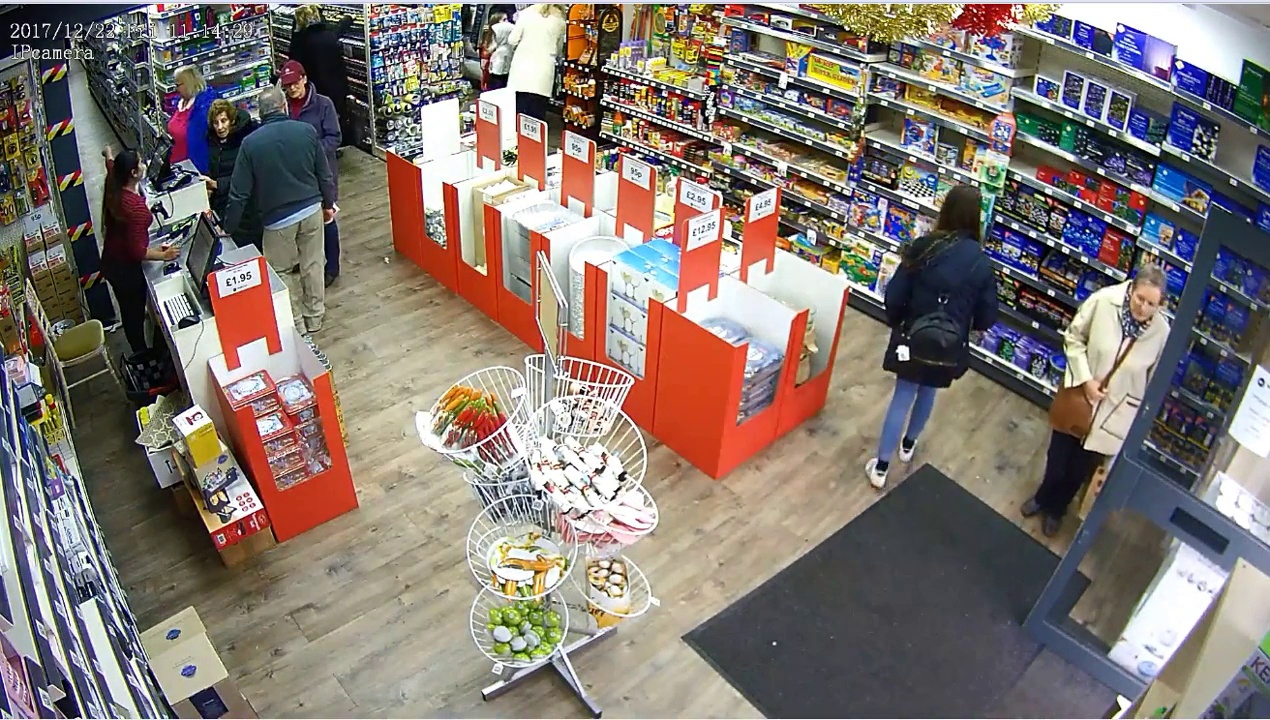face: (1130, 281, 1160, 322), (209, 109, 232, 141), (282, 73, 303, 98)
